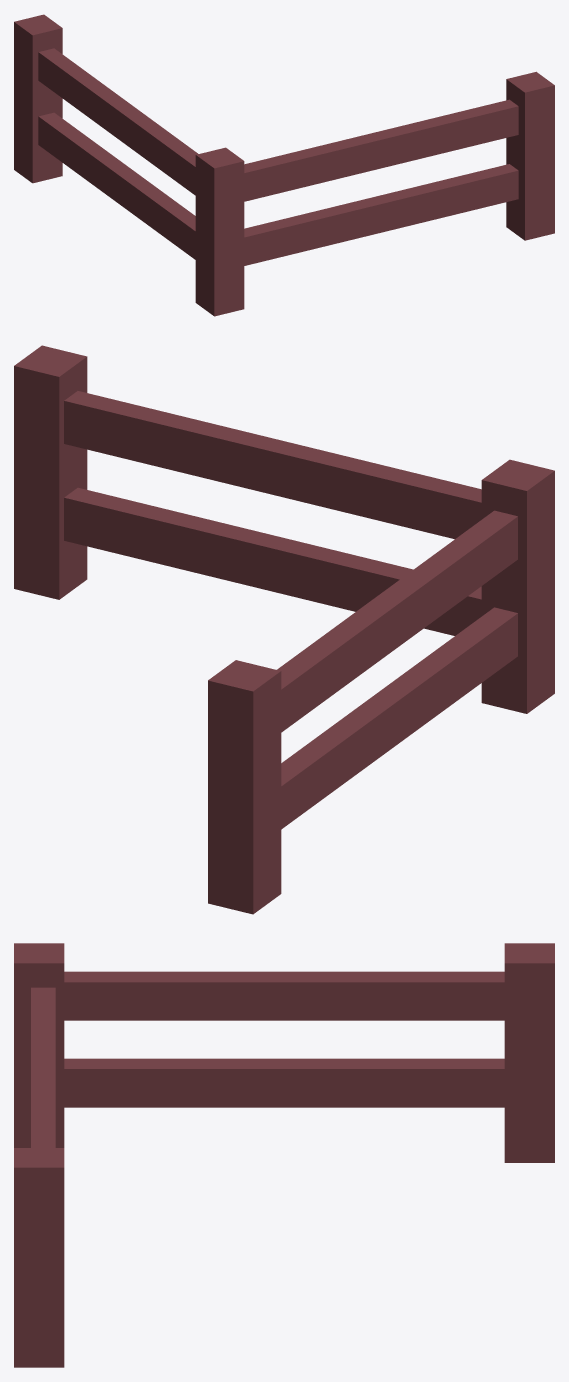
Rendered from Ograda_L.fbx.
3 views of the same model, one above another, from view 1: azimuth 30°, elevation 25°; view 2: azimuth 150°, elevation 25°; view 3: azimuth 270°, elevation 25° (orthographic). The views are drawn at different scales.
Visible parts, largest first — view 1: Ograda_L; view 2: Ograda_L; view 3: Ograda_L.
Boxes of the visible parts, x1,y1,x2,y2 form: Ograda_L: (14,14,554,316); Ograda_L: (14,345,554,914); Ograda_L: (14,943,554,1367).
Bounding box in the file's own units: 77.54 × 32.21 × 79.01.
